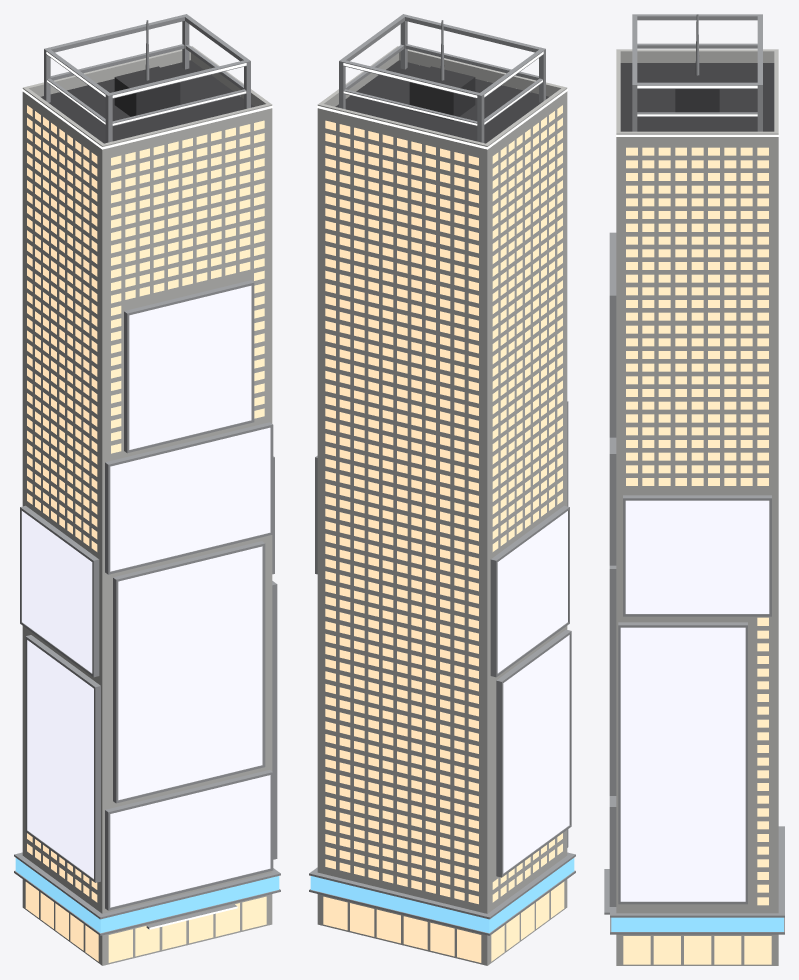
The model's file is billboard-block.glb.
The picture shows the model from 3 angles, left to right: view 1: azimuth 30°, elevation 25°; view 2: azimuth 150°, elevation 25°; view 3: azimuth 270°, elevation 25°; orthographic projection.
Parts seen in each view (by area): view 1: Body_Concrete, Windows, Screen_1, Body_Metal, Screen_2, Screen_3, Screen_0, Screen_6, Screen_7, Body_Roof, LED, Crown; view 2: Body_Concrete, Windows, Body_Metal, Screen_6, Screen_7, Body_Roof, LED, Crown; view 3: Body_Concrete, Screen_4, Windows, Body_Metal, Screen_5, Body_Roof, LED, Crown.
Part boxes in pixels (x1=…): Body_Concrete: x1=22, y1=46, x2=272, y2=965; Windows: x1=25, y1=105, x2=266, y2=962; Screen_1: x1=118, y1=546, x2=262, y2=799; Body_Metal: x1=14, y1=14, x2=280, y2=935; Screen_2: x1=110, y1=427, x2=270, y2=571; Screen_3: x1=129, y1=285, x2=251, y2=449; Screen_0: x1=110, y1=775, x2=270, y2=907; Screen_6: x1=27, y1=640, x2=93, y2=878; Screen_7: x1=22, y1=511, x2=92, y2=672; Body_Roof: x1=41, y1=60, x2=254, y2=143; LED: x1=15, y1=858, x2=279, y2=933; Crown: x1=22, y1=51, x2=272, y2=149; Body_Concrete: x1=317, y1=46, x2=567, y2=965; Windows: x1=323, y1=105, x2=564, y2=962; Body_Metal: x1=309, y1=14, x2=575, y2=935; Screen_6: x1=503, y1=635, x2=569, y2=873; Screen_7: x1=497, y1=511, x2=567, y2=672; Body_Roof: x1=335, y1=60, x2=548, y2=143; LED: x1=310, y1=858, x2=574, y2=933; Crown: x1=317, y1=51, x2=567, y2=149; Body_Concrete: x1=616, y1=49, x2=778, y2=965; Screen_4: x1=620, y1=627, x2=745, y2=901; Windows: x1=623, y1=147, x2=771, y2=964; Body_Metal: x1=604, y1=14, x2=784, y2=934; Screen_5: x1=625, y1=500, x2=769, y2=613; Body_Roof: x1=620, y1=63, x2=774, y2=131; LED: x1=611, y1=917, x2=783, y2=931; Crown: x1=616, y1=50, x2=779, y2=136.
Size of the model in its own units: 5.76 by 27.19 by 4.9.
